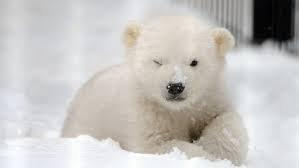bear: (65, 13, 252, 162)
